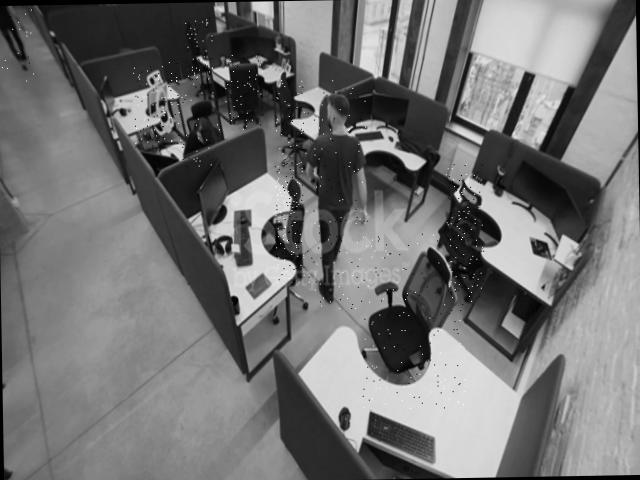empty chair: (359, 233, 466, 411), (445, 163, 485, 306), (133, 62, 183, 153), (274, 159, 305, 283), (225, 53, 264, 131), (276, 76, 304, 160), (185, 17, 213, 88)
occupiedchair: (180, 90, 222, 168)
